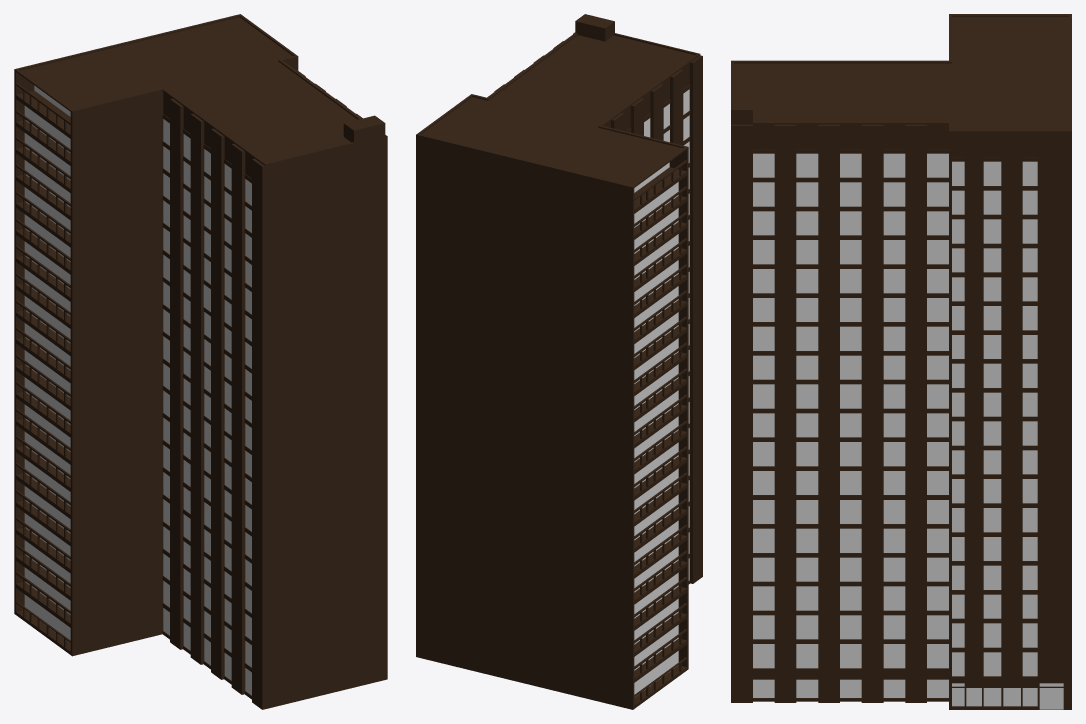
File: BUILDING1.fbx
3 renders of one model, left to right at view 1: azimuth 30°, elevation 25°; view 2: azimuth 150°, elevation 25°; view 3: azimuth 270°, elevation 25°, orthographic. The views are drawn at different scales.
Visible parts, largest first — view 1: Cube.026; view 2: Cube.026; view 3: Cube.026.
Part boxes in pixels (left/top/right/bottom): Cube.026: left=14, top=14, right=387, bottom=709; Cube.026: left=416, top=14, right=702, bottom=709; Cube.026: left=731, top=14, right=1071, bottom=709.
Size of the model in its own units: 5619 by 13222 by 6901.
